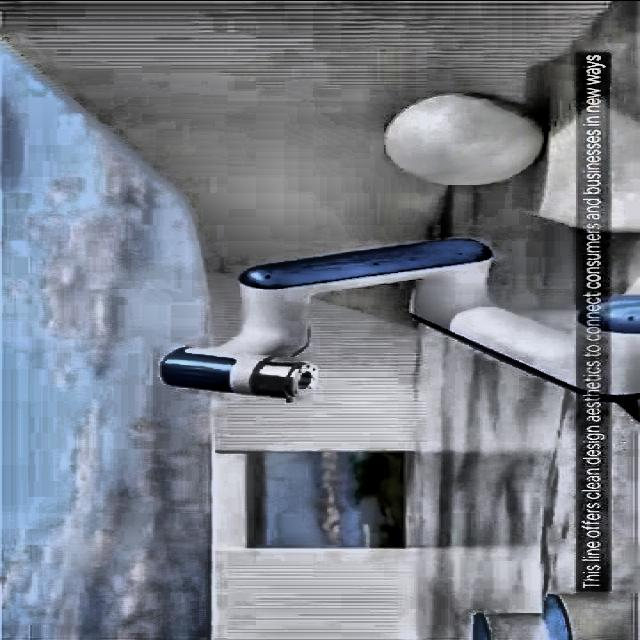robot: (152, 232, 640, 414)
